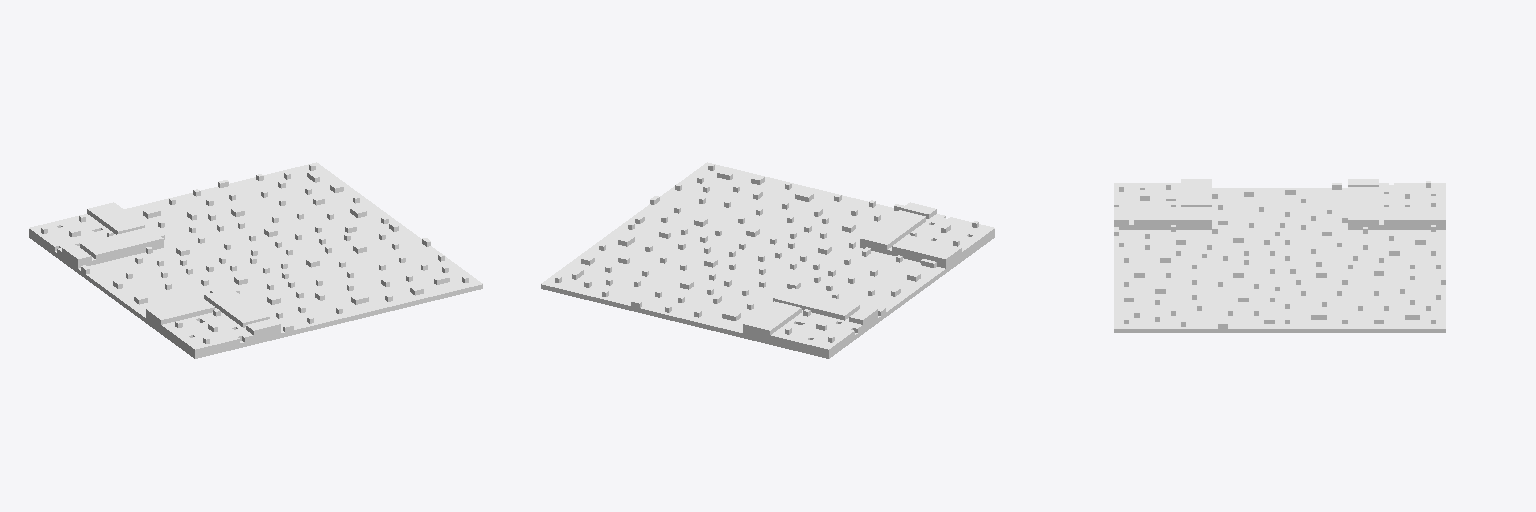
The model's file is EarthenPath4Fork_3.obj.
The picture shows the model from 3 angles: view 1: azimuth 30°, elevation 25°; view 2: azimuth 150°, elevation 25°; view 3: azimuth 270°, elevation 25°; orthographic projection.
Parts seen in each view (by area): view 1: EarthenPath4Fork_3; view 2: EarthenPath4Fork_3; view 3: EarthenPath4Fork_3.
Part boxes in pixels (x1,y1,x2,y2): EarthenPath4Fork_3: (29, 162, 482, 358); EarthenPath4Fork_3: (541, 162, 994, 358); EarthenPath4Fork_3: (1114, 179, 1445, 332).
Size of the model in its own units: 1 by 0.0469 by 1.